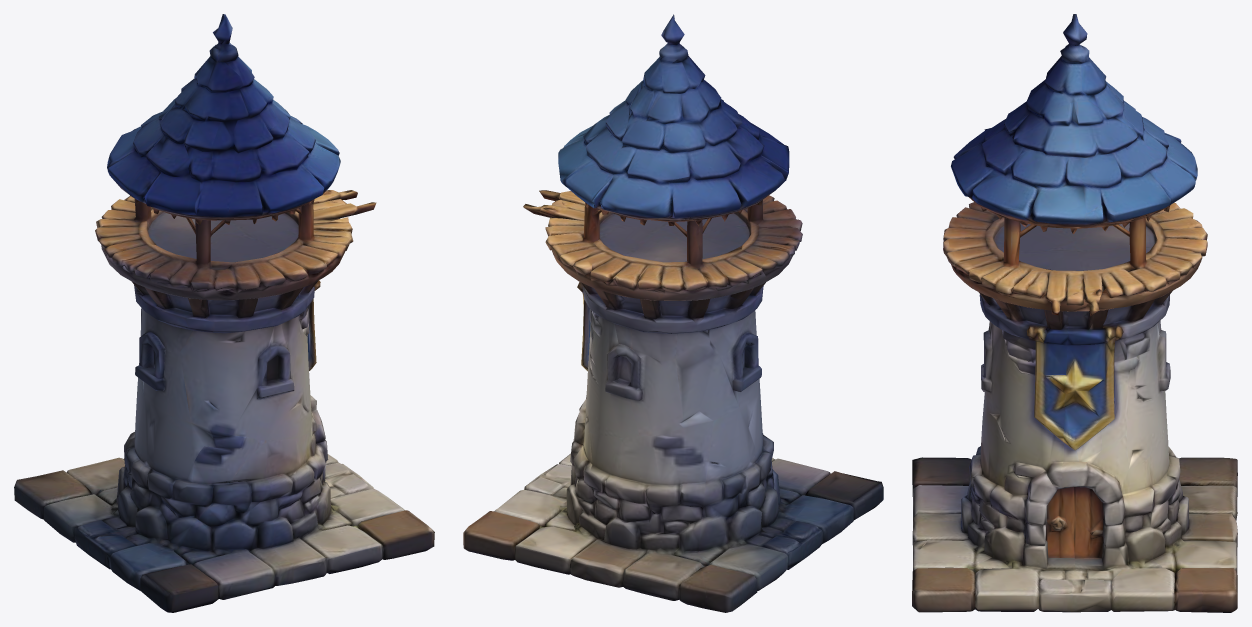
The model's file is tower-mid.glb.
The picture shows the model from 3 angles, left to right: view 1: azimuth 30°, elevation 25°; view 2: azimuth 150°, elevation 25°; view 3: azimuth 270°, elevation 25°; orthographic projection. The views are drawn at different scales.
Visible parts, largest first — view 1: tripo_node_efa72810-b5e4-4de8-a77d-54a993fa293e; view 2: tripo_node_efa72810-b5e4-4de8-a77d-54a993fa293e; view 3: tripo_node_efa72810-b5e4-4de8-a77d-54a993fa293e.
Part boxes in pixels (box(x1,y1,x2,y2)): tripo_node_efa72810-b5e4-4de8-a77d-54a993fa293e: box(14, 14, 434, 612); tripo_node_efa72810-b5e4-4de8-a77d-54a993fa293e: box(463, 14, 883, 612); tripo_node_efa72810-b5e4-4de8-a77d-54a993fa293e: box(912, 14, 1237, 612).
Size of the model in its own units: 0.566 by 0.9965 by 0.5529.
1 material, 1 textured.
